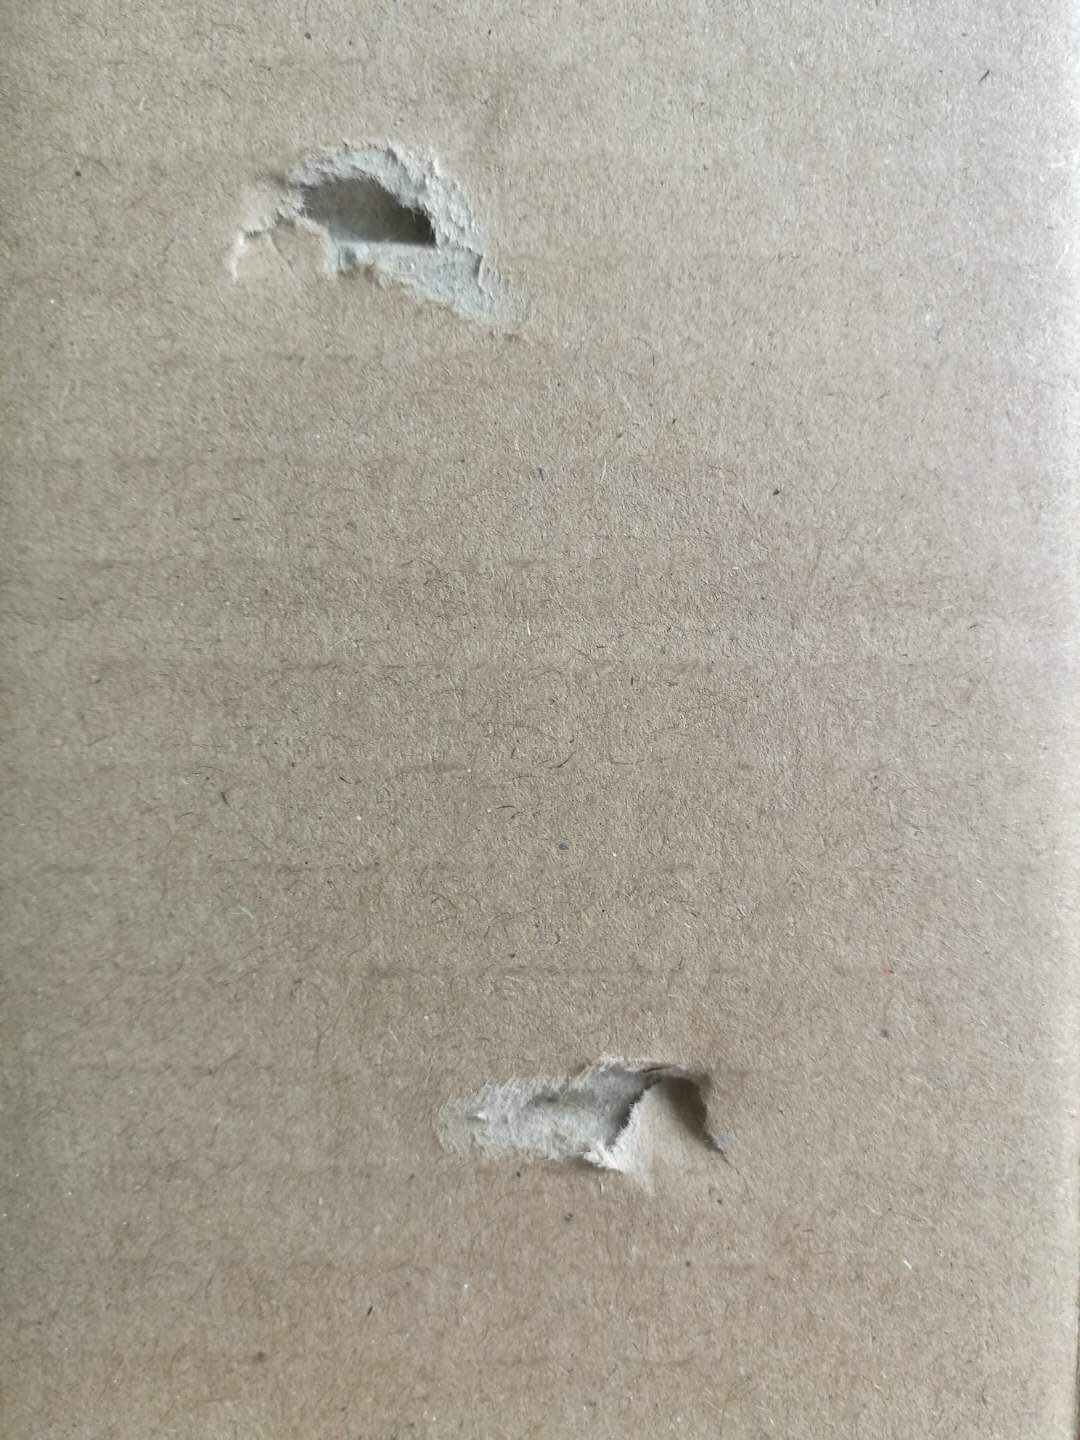defect: (209, 122, 540, 351), (417, 1018, 754, 1202)
